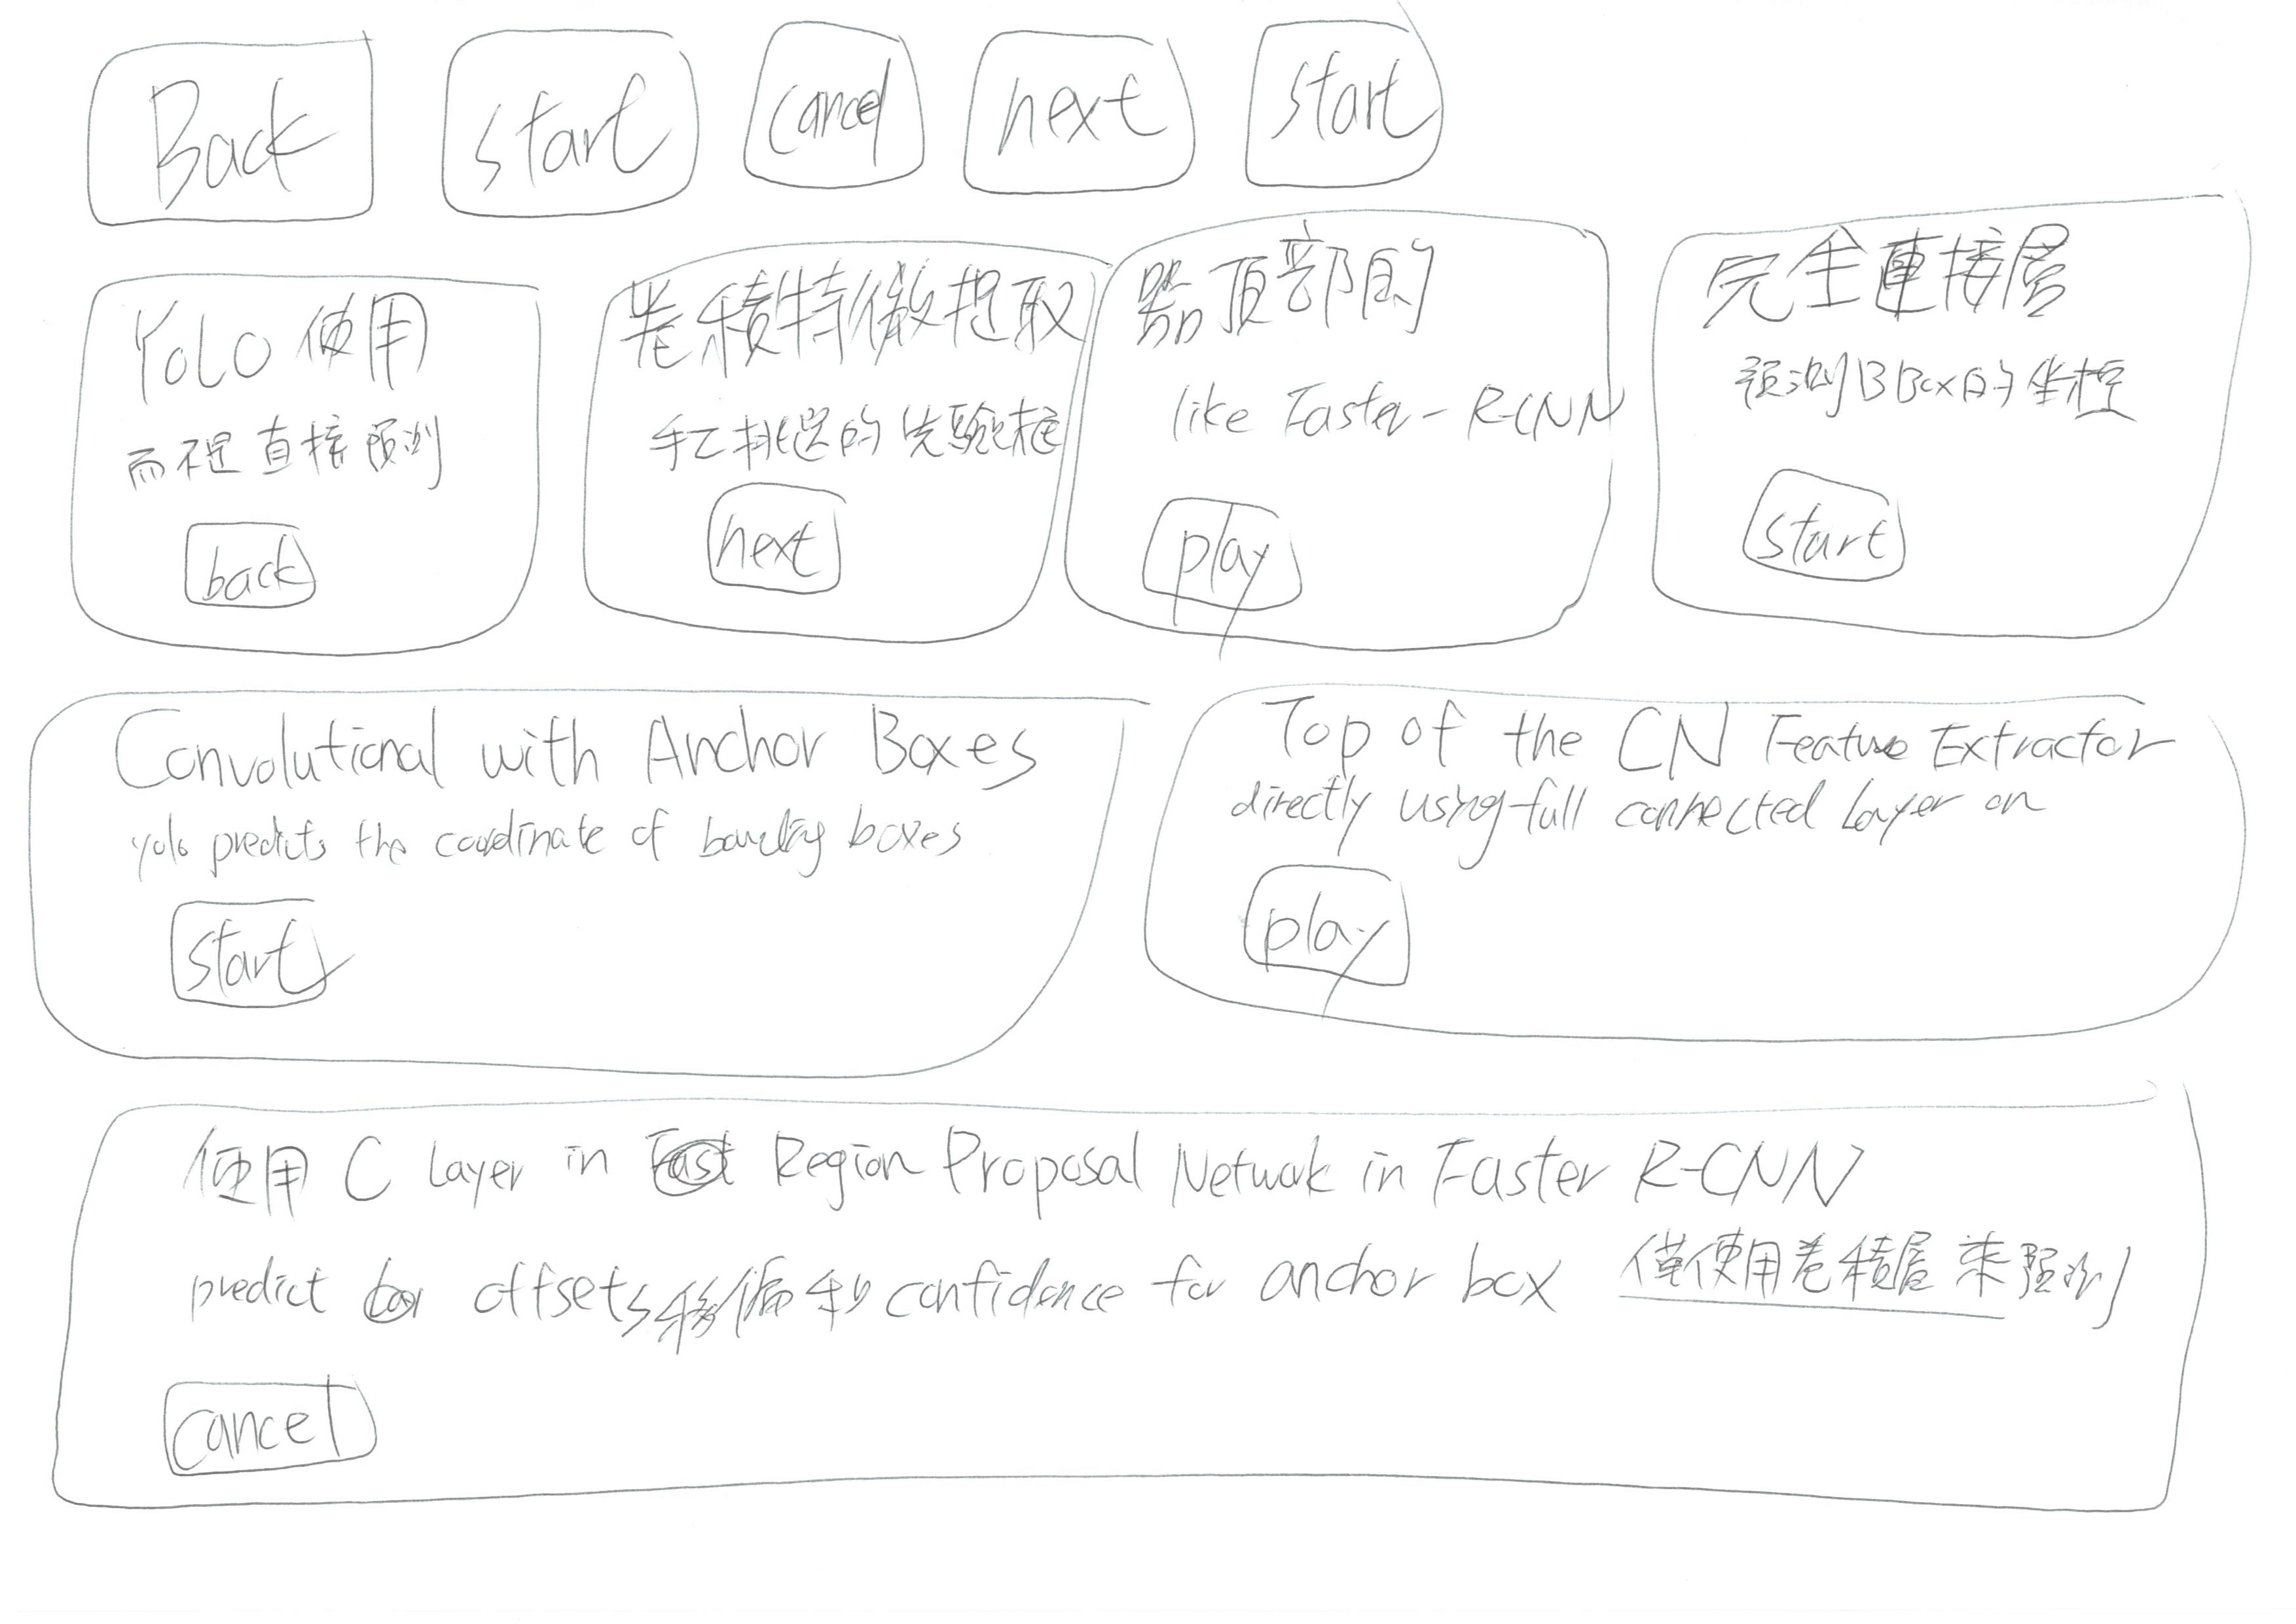back: (40, 0, 383, 250), (178, 510, 345, 627)
cancel: (714, 0, 956, 213), (135, 1367, 418, 1499)
double: (1143, 654, 2273, 1069), (11, 682, 1139, 1097)
next: (960, 0, 1218, 218), (665, 471, 870, 596)
play: (1123, 469, 1352, 640), (1213, 854, 1442, 1009)
quadruple: (1626, 185, 2294, 650), (1055, 207, 1654, 671), (554, 221, 1113, 677), (33, 244, 559, 701)
row: (9, 190, 2296, 682), (9, 626, 2296, 1116), (9, 1076, 2296, 1566), (9, 0, 2296, 236)
single: (7, 1065, 2296, 1543)
small-title: (178, 1139, 1902, 1211), (84, 721, 1037, 789), (631, 267, 1041, 388), (1262, 714, 2169, 763), (1132, 244, 1487, 369), (127, 302, 452, 401), (1704, 239, 2090, 318)
start: (401, 0, 723, 230), (1208, 0, 1503, 213), (1714, 450, 1950, 605), (148, 889, 369, 1021)
text: (160, 1209, 2147, 1339), (1224, 766, 2106, 847), (114, 794, 985, 875), (1702, 344, 2168, 443), (1148, 369, 1624, 462), (635, 401, 1055, 483), (105, 420, 466, 483)
